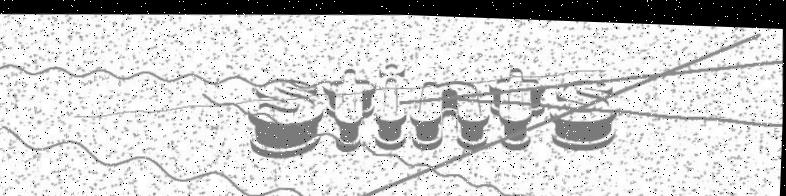i: (374, 59, 409, 147)
n: (410, 76, 492, 150)
s: (247, 74, 326, 158), (550, 73, 619, 147)
t: (488, 62, 548, 148), (322, 64, 379, 150)
